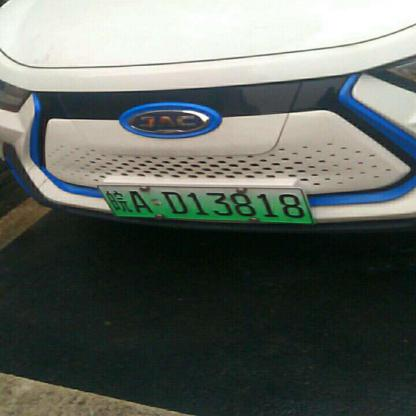lp: (99, 186, 311, 221)
